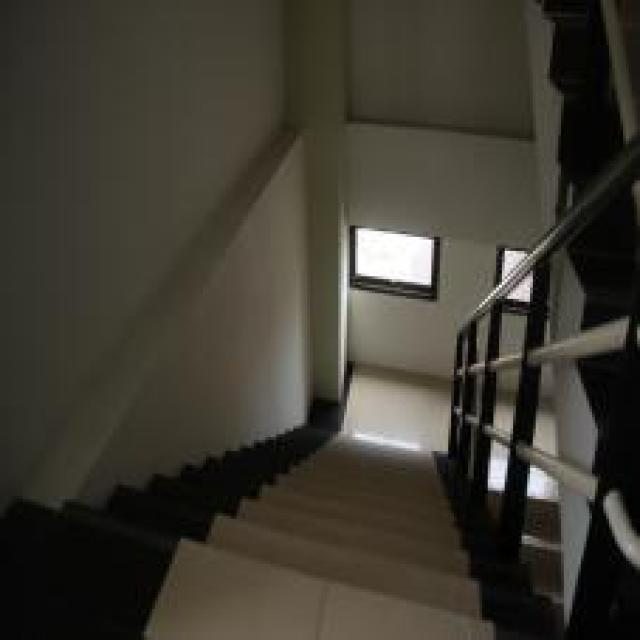downstair: (193, 464, 455, 639)
